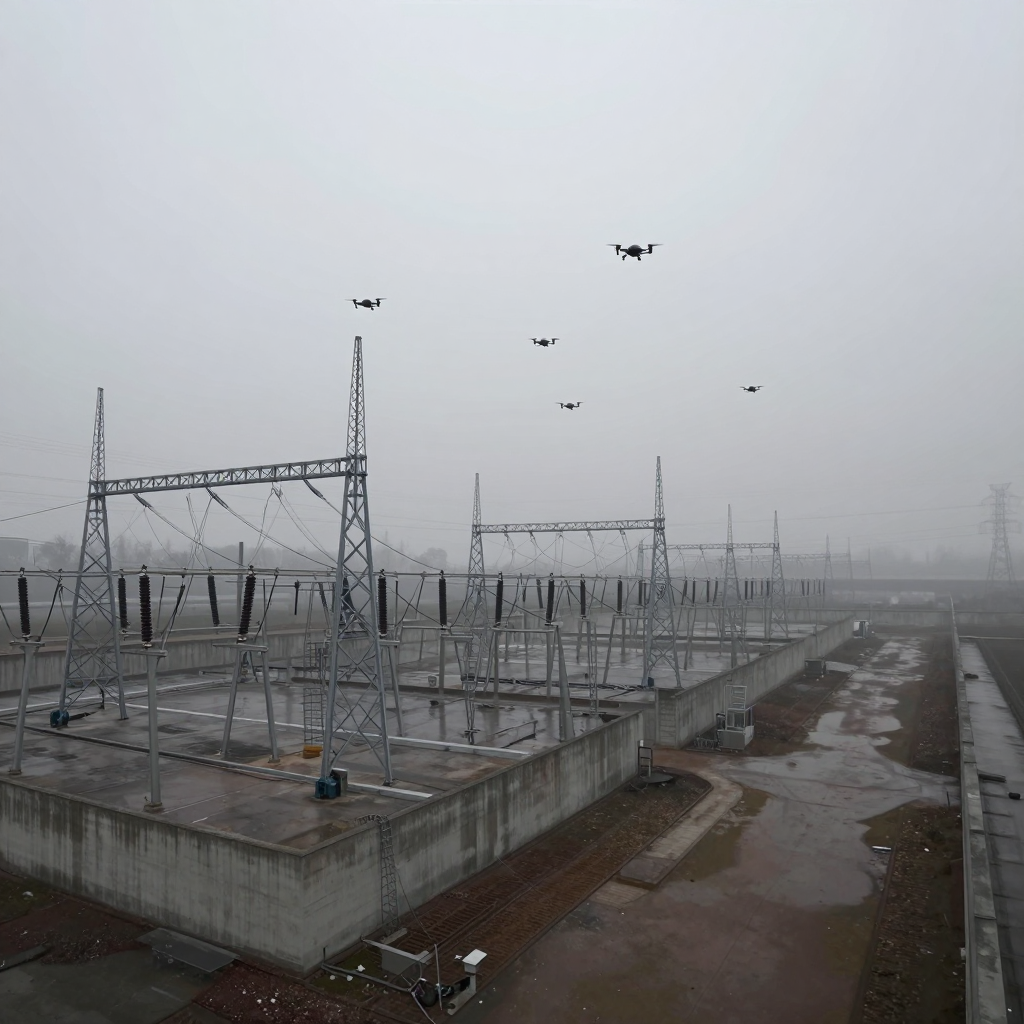drone: (606, 244, 663, 261), (345, 298, 387, 311), (528, 337, 560, 347), (555, 402, 584, 410), (739, 385, 765, 393)
